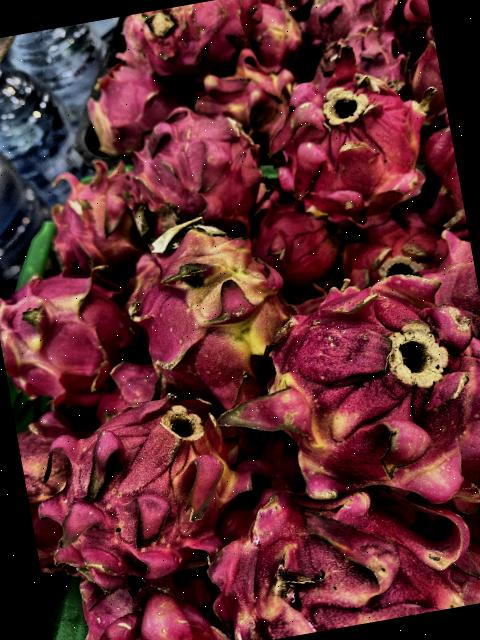buah-naga-belum-matang: (240, 262, 480, 530), (190, 455, 479, 640), (35, 382, 248, 581), (112, 207, 290, 402), (0, 263, 140, 395), (44, 158, 146, 281), (14, 414, 79, 556), (191, 57, 284, 133), (244, 0, 308, 71)
buah-naga-matang: (263, 46, 441, 238), (128, 98, 264, 240), (56, 556, 227, 640), (121, 0, 262, 82), (331, 201, 446, 291), (80, 52, 183, 143), (248, 197, 348, 280), (312, 15, 415, 90), (301, 0, 394, 32)
